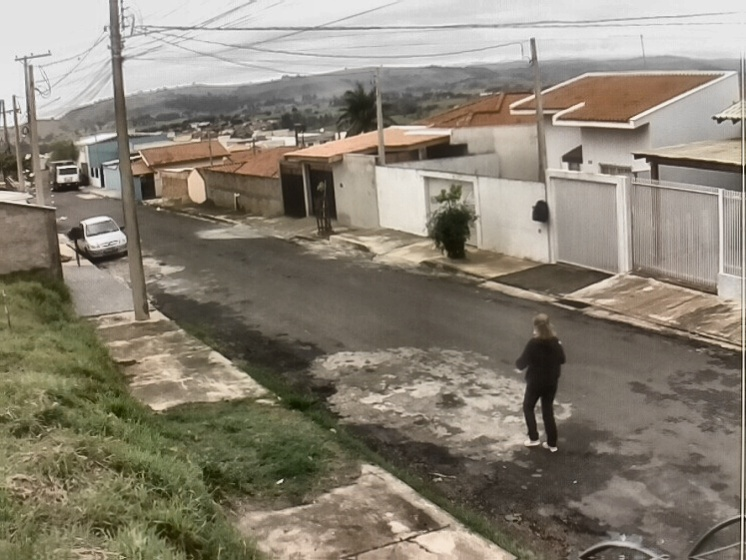person: (514, 312, 566, 452)
